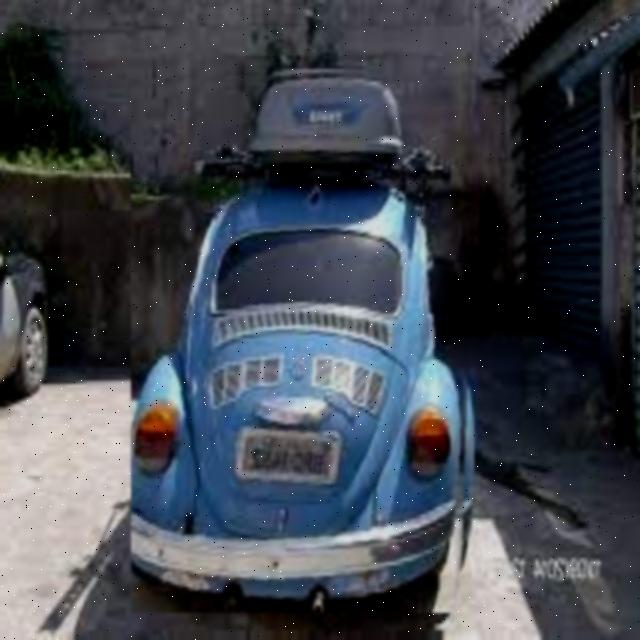car: (132, 64, 481, 614)
